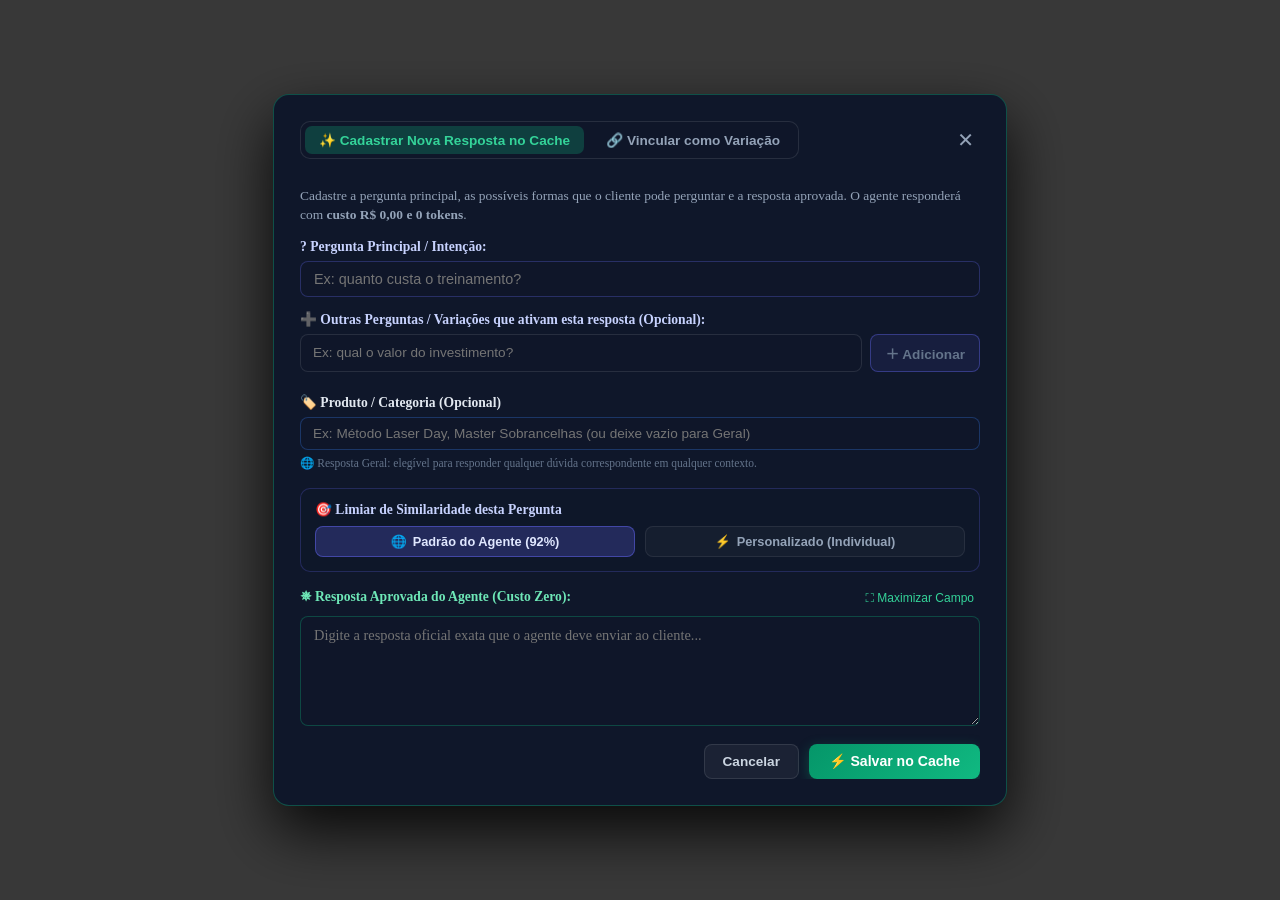
Test case: CreateSemanticCacheModal Component › deve abrir popup gigante de tela cheia ao clicar no botão de maximizar campo
Click the button with test id "toggle-maximize-create-response-btn": coordinates (920, 598) [860,590,980,606]
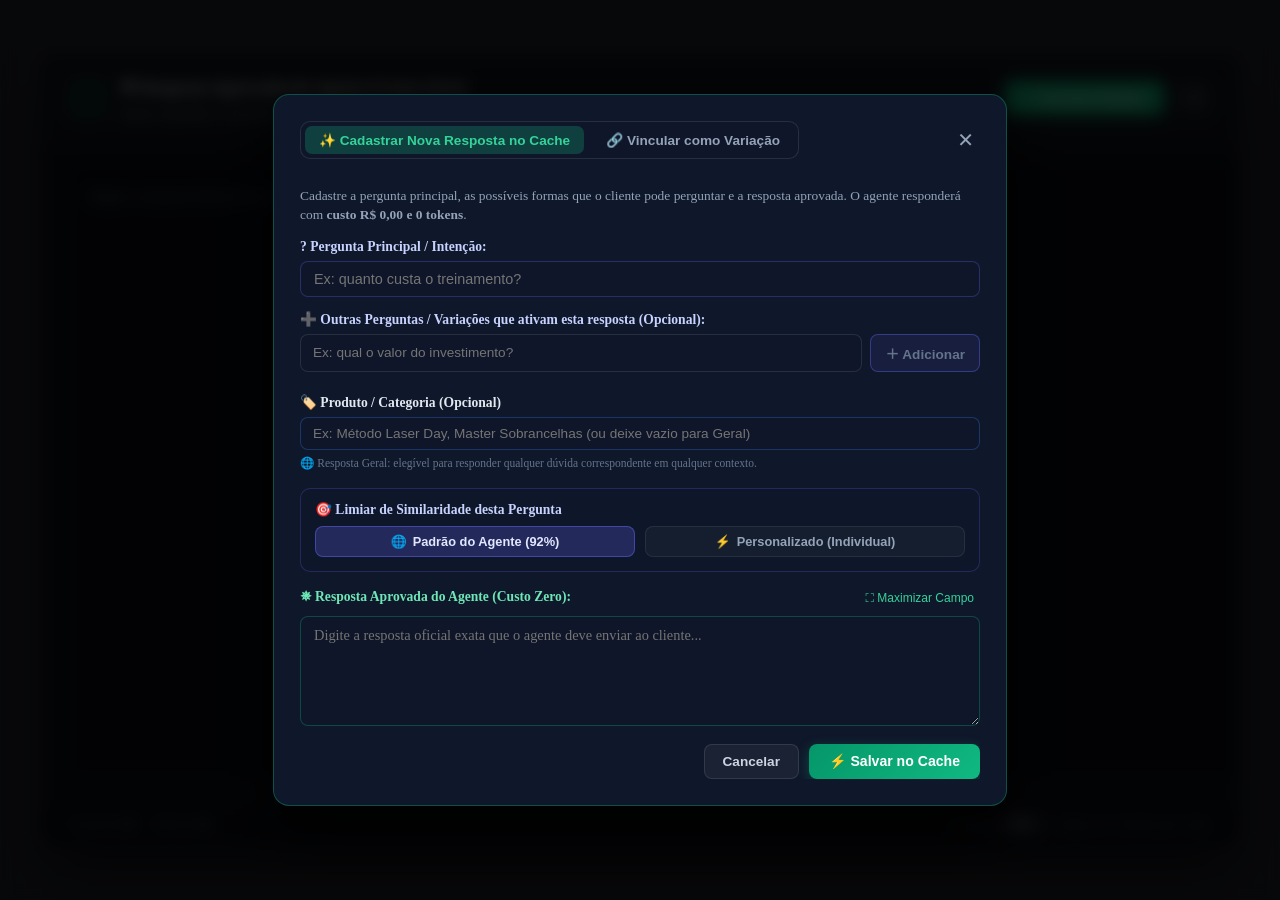
Check: the text "Edição expandida e confortável da resposta oficial" is shown, box [120,107,590,121]
